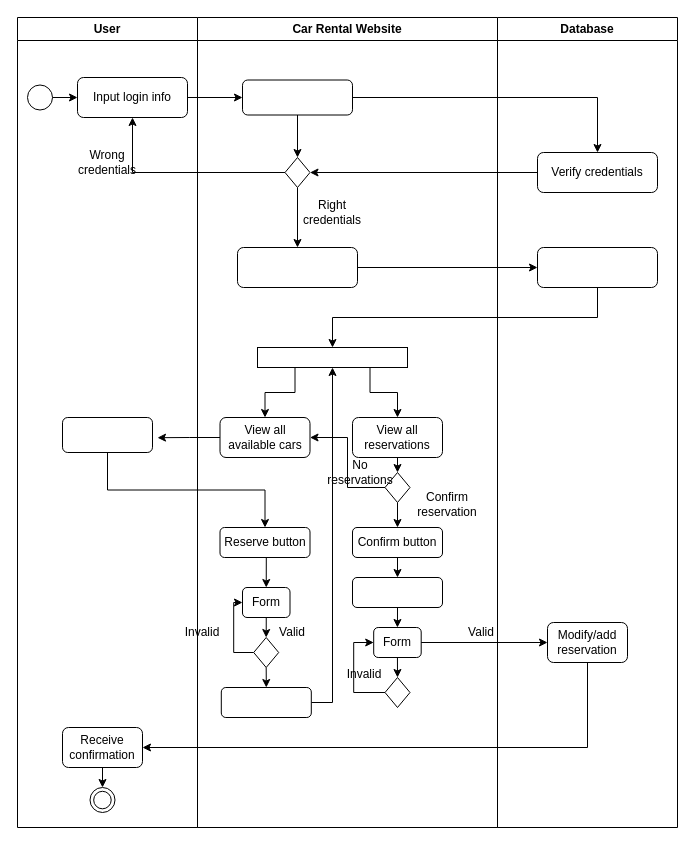
This 695x845 diagram has some shape labels left out. The centre of each missing label's shape, as x and y in pixels:
Choses to reserve a car: point 107,434
Detect nearest branch: point 597,267
Find branch map: point 297,267
Login form: point 297,97
Payment info page: point 397,592
Reservation detail page: point 265,702
